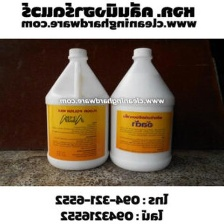cleaning_solution: (107, 45, 177, 174), (42, 46, 113, 172)
